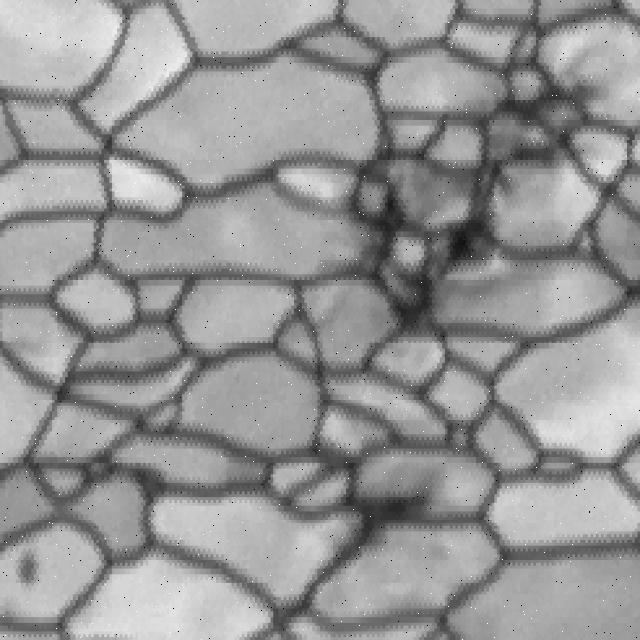good_void: (337, 472, 426, 563), (434, 211, 509, 274), (8, 545, 47, 590)
